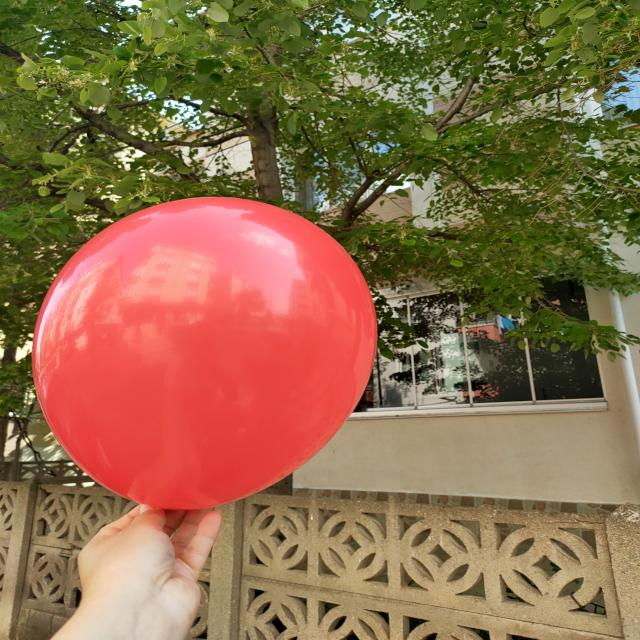red: (32, 200, 389, 524)
